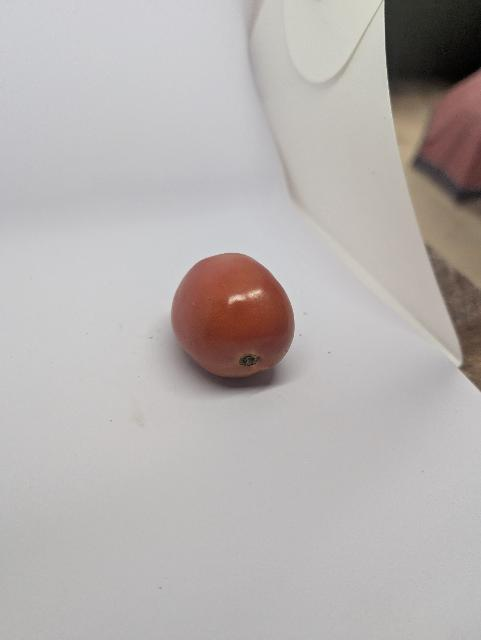red: (154, 239, 314, 391)
